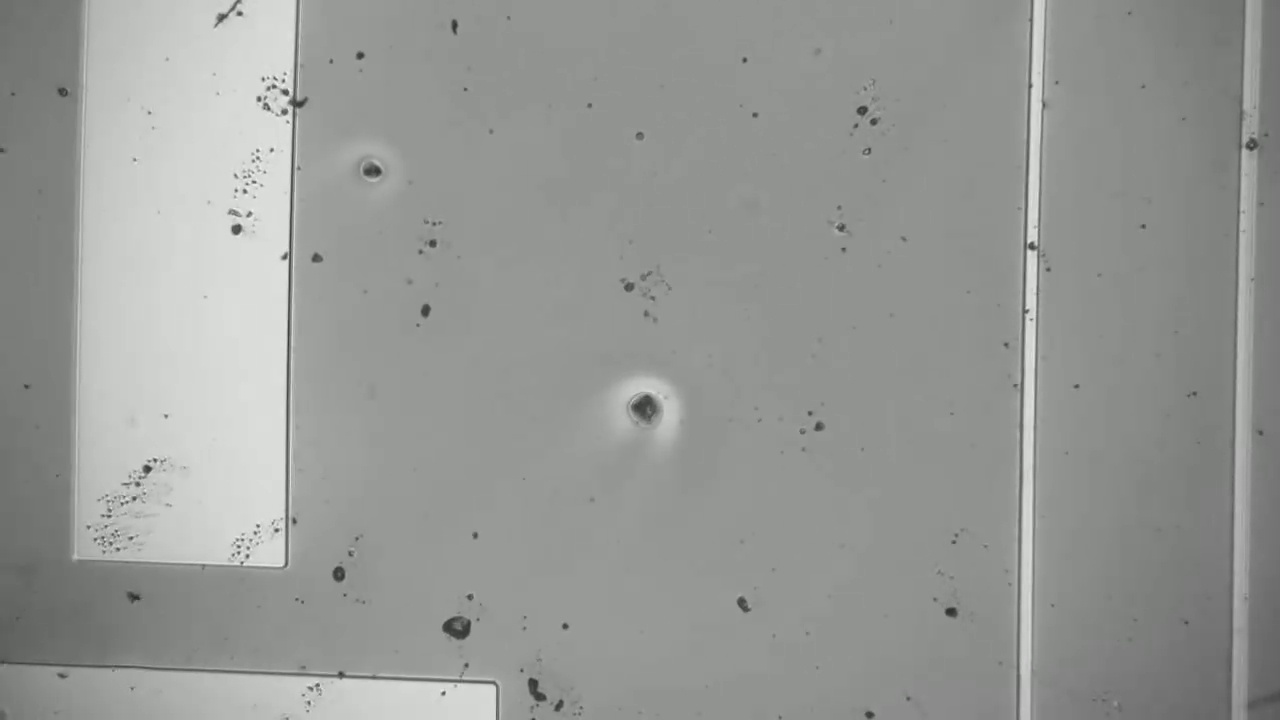stains_enbedded: (1233, 131, 1268, 162), (1015, 237, 1044, 257)
